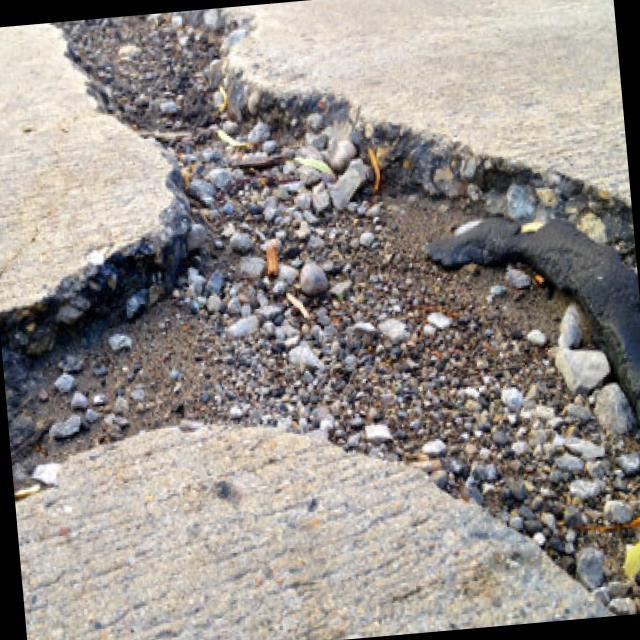Pothole: (74, 11, 640, 552)
